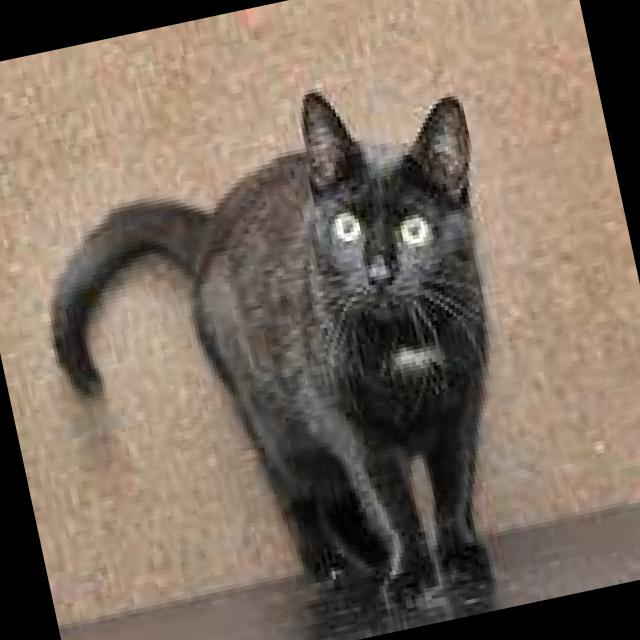cat: (15, 64, 559, 640)
